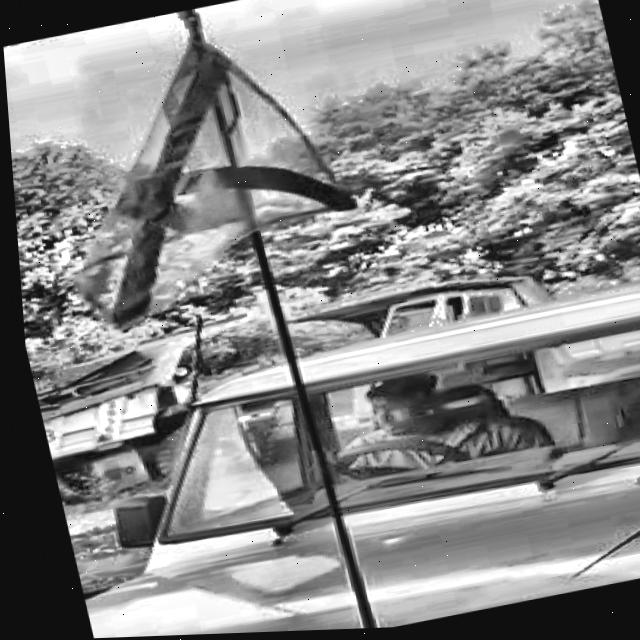light_vehicle: (26, 281, 640, 640)
